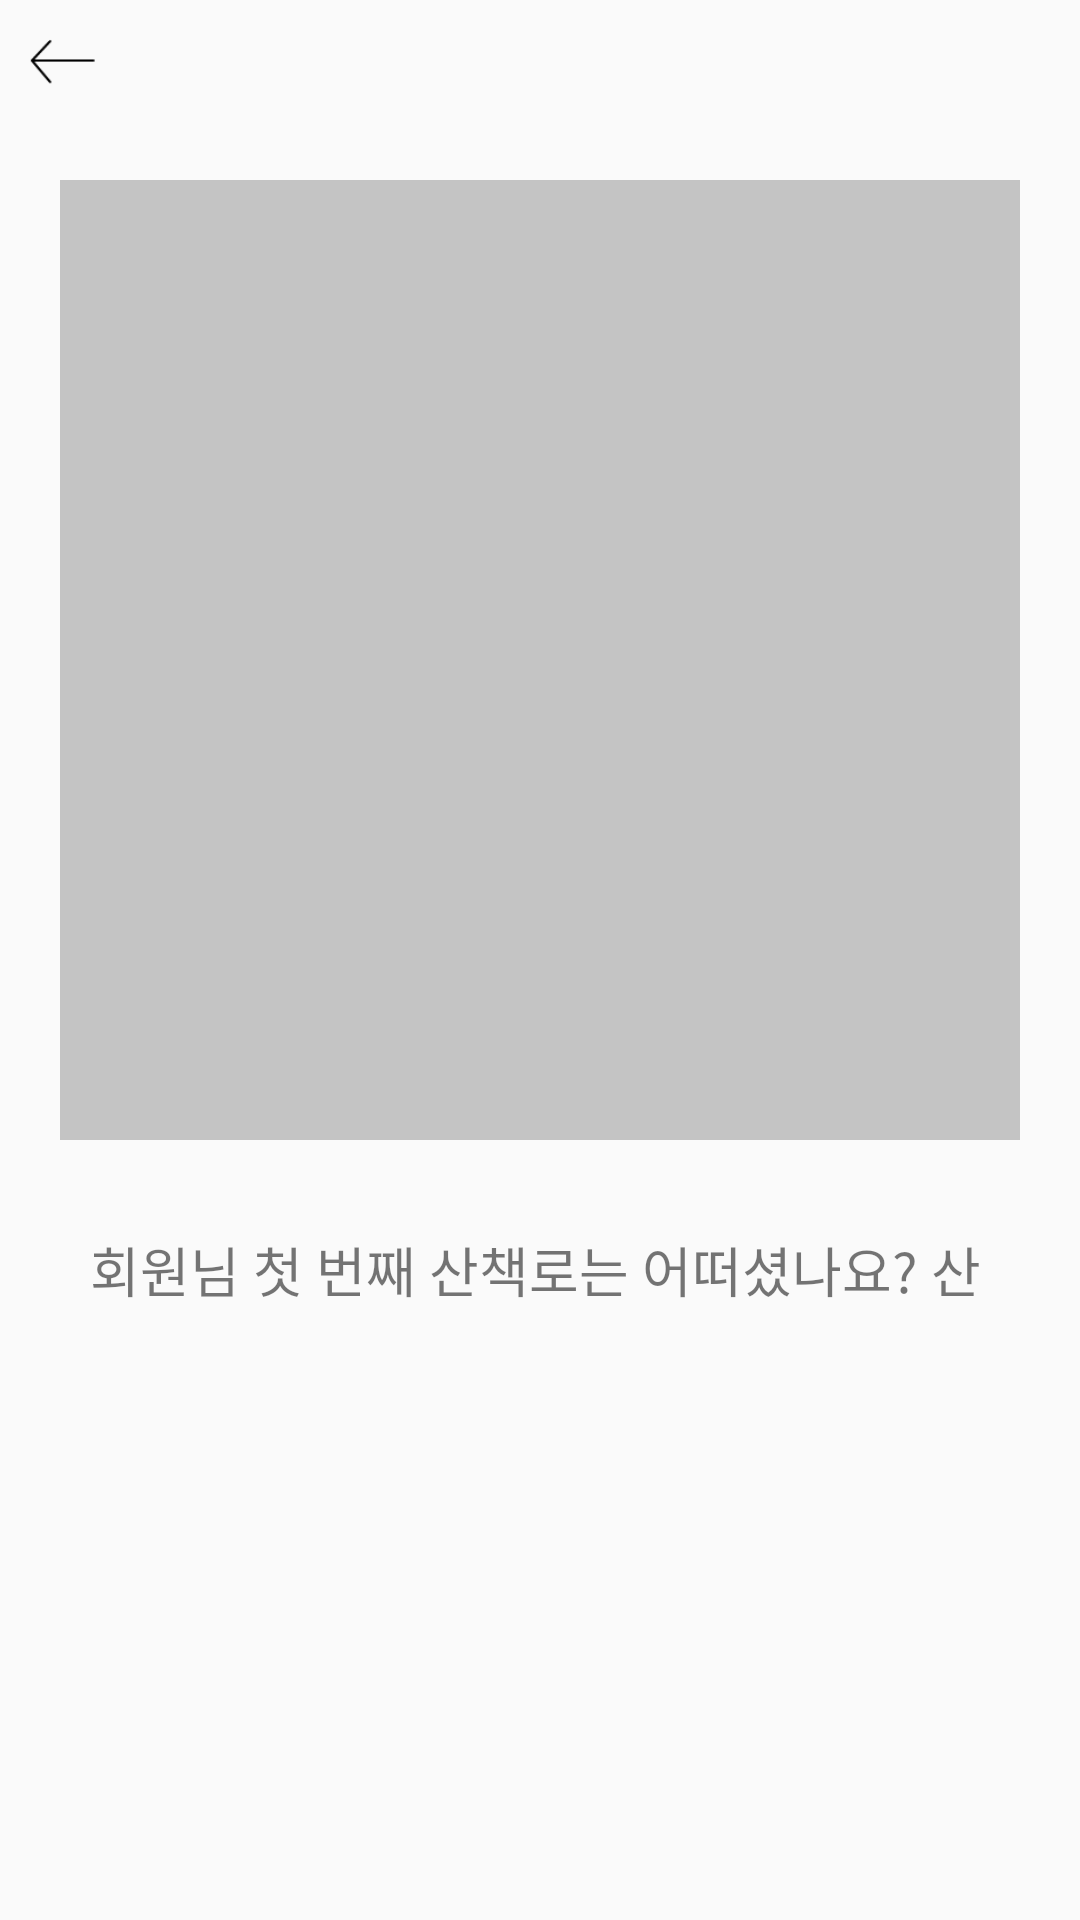

Icon click points for this 1080×1920 phone screenshot, format point (x, y):
back: point (62, 62)
